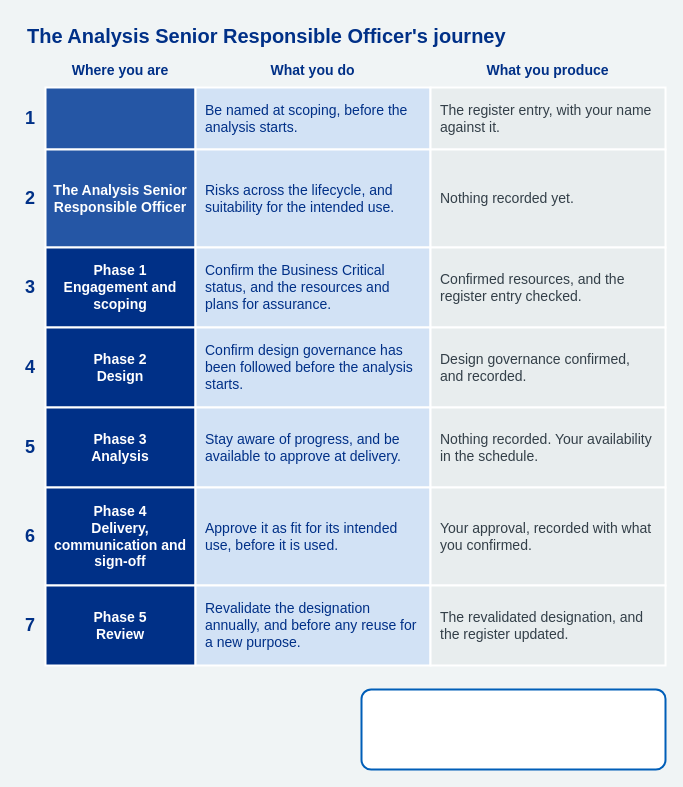
Some shapes in this 683 by 787 pixel diagram are drawn without their labels. Here are the shapes that lost their labels. From the top down, the box of each, then its label:
(44, 86, 196, 150): Business Critical analysis
(360, 688, 666, 770): After the last step What review finds is what the next revalidation starts from.
